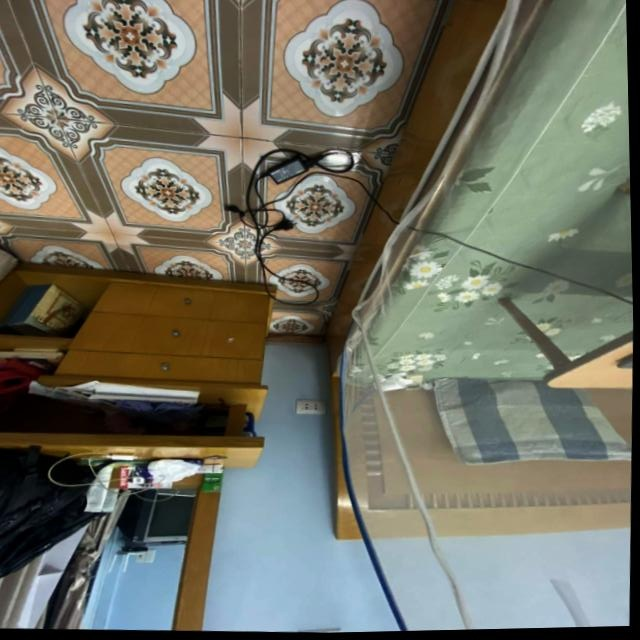outlet: (294, 400, 325, 415)
